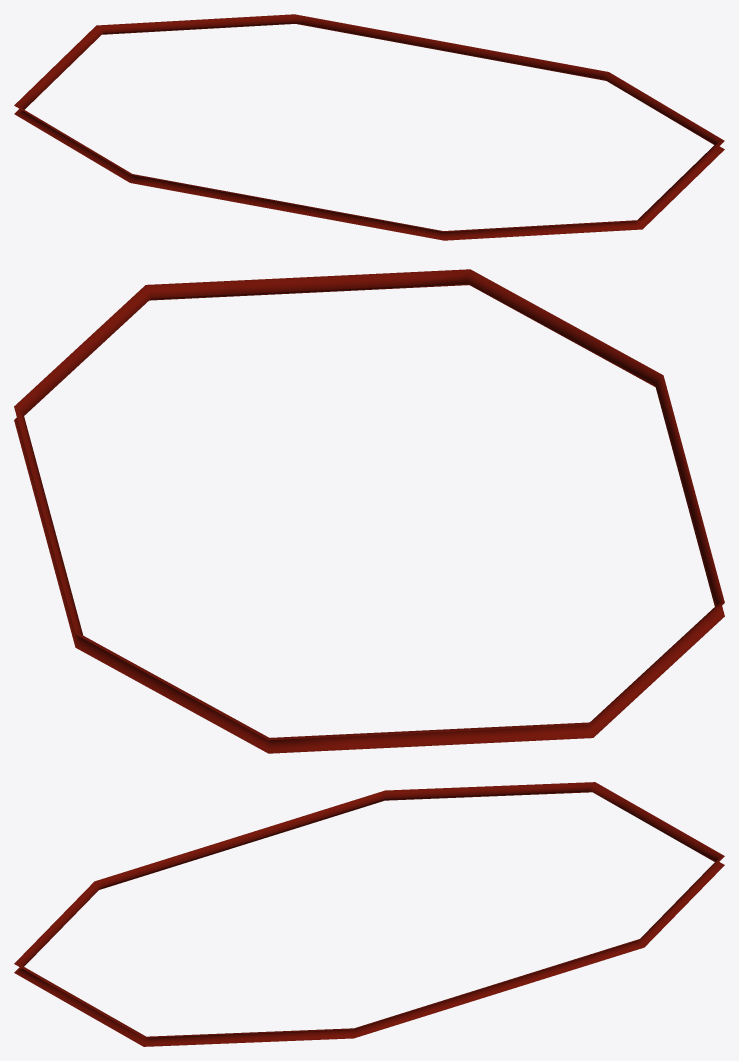
The model's file is Room3_Lights2.fbx.
The picture shows the model from 3 angles, top to bottom: view 1: azimuth 30°, elevation 25°; view 2: azimuth 150°, elevation 25°; view 3: azimuth 270°, elevation 25°; orthographic projection. The views are drawn at different scales.
Visible parts, largest first — view 1: Lights; view 2: Lights; view 3: Lights.
Part boxes in pixels (bbox=[...]): Lights: bbox=[14, 14, 724, 240]; Lights: bbox=[14, 269, 724, 753]; Lights: bbox=[14, 782, 724, 1046].
Bounding box in the file's own units: 0.2149 × 0.00352 × 0.2524.
